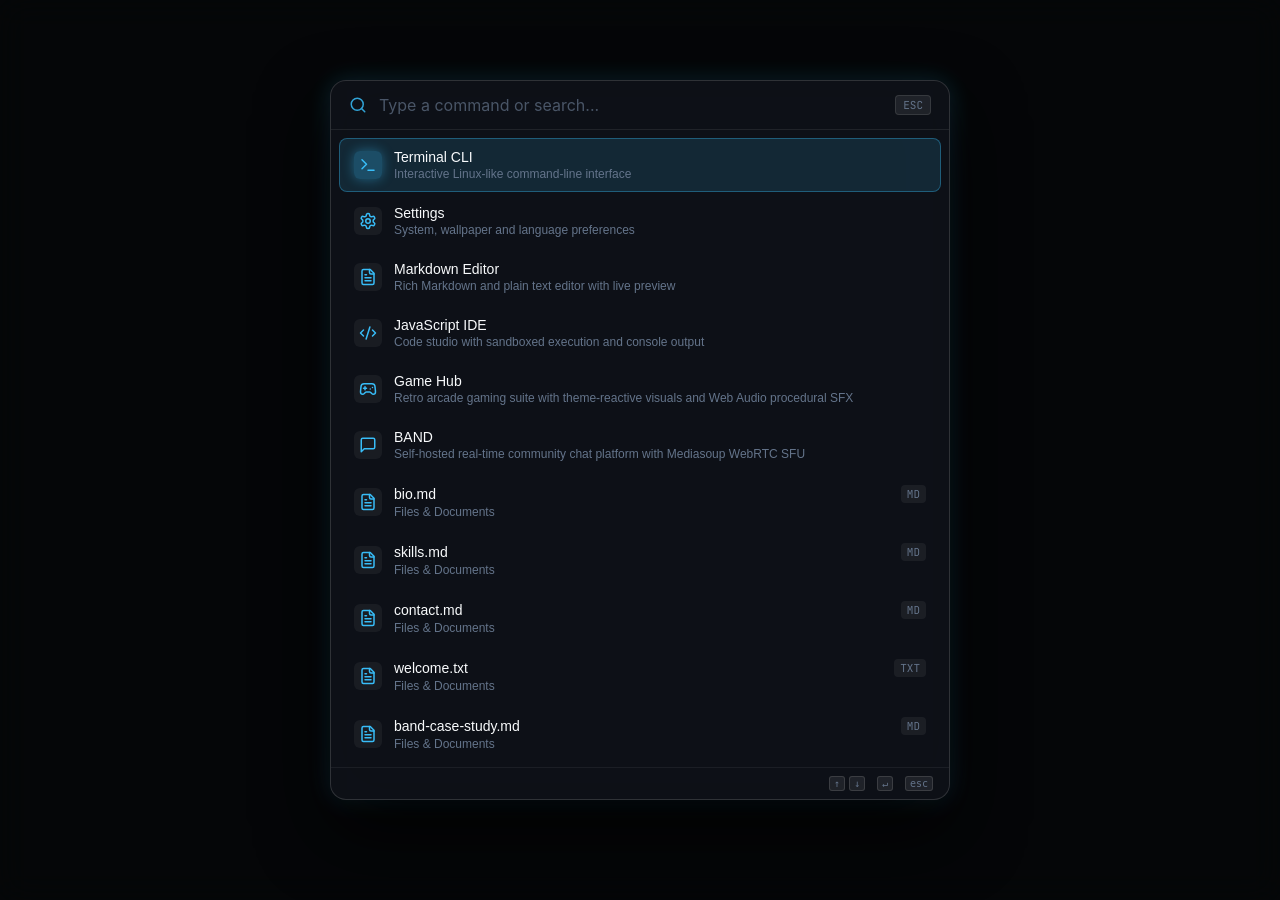
Test case: CommandPalette Component › displays empty state when no commands match query
Type "xyznonexistent123" into the field with test id "command-palette-input" at (631, 105), box [379, 95, 883, 115]
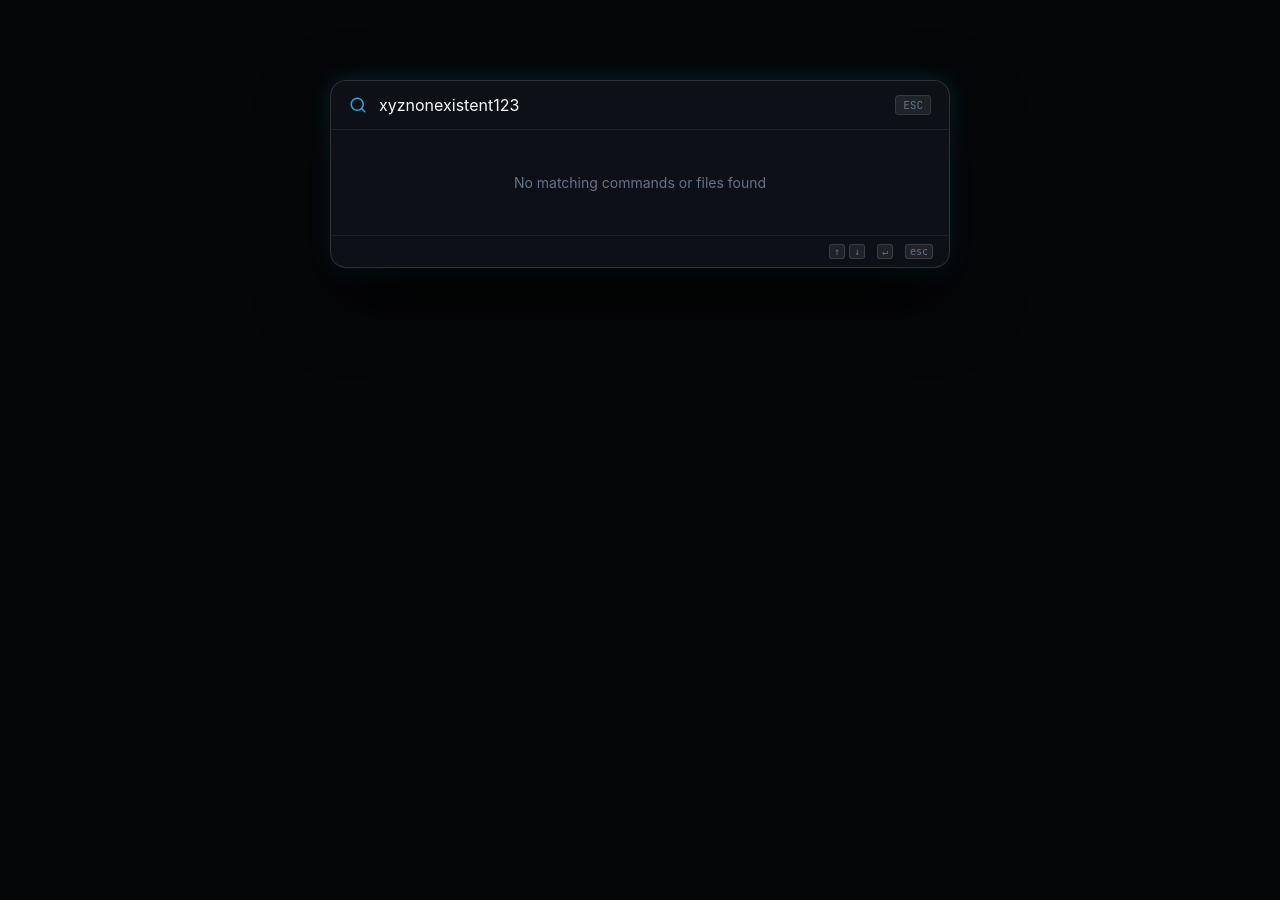
Result: the text "No matching commands or files found" is shown at [514, 174, 766, 191]
